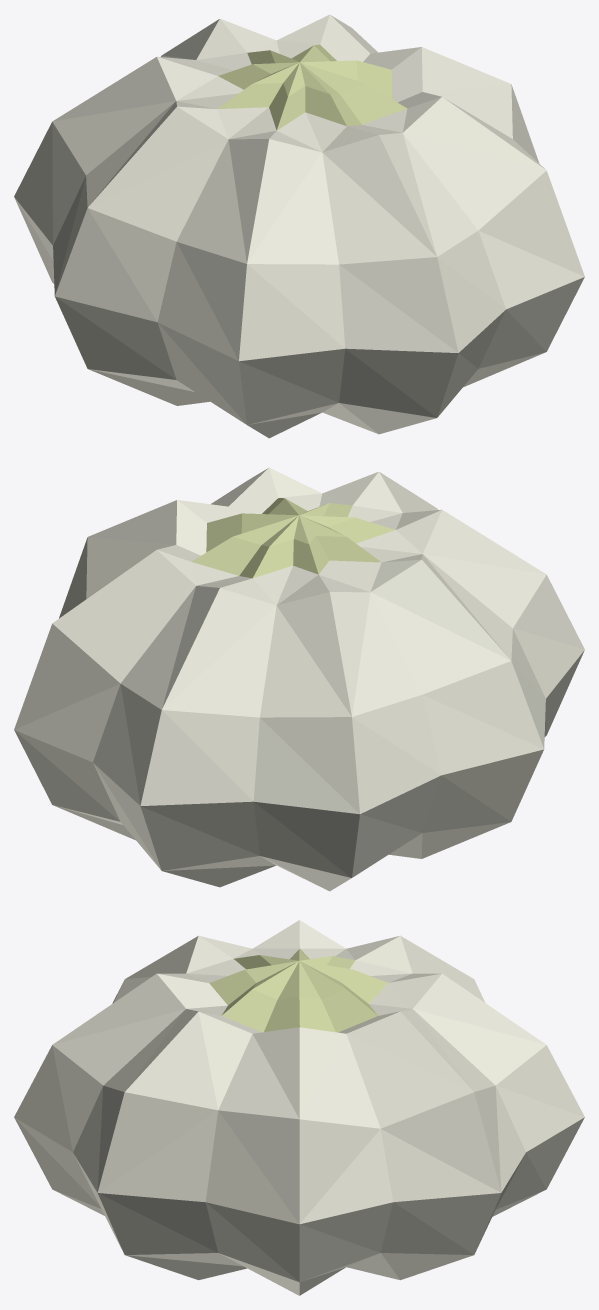
File: garlic.fbx
The picture shows the model from 3 angles, top to bottom: view 1: azimuth 30°, elevation 25°; view 2: azimuth 150°, elevation 25°; view 3: azimuth 270°, elevation 25°; orthographic projection. The views are drawn at different scales.
Visible parts, largest first — view 1: pSphere4; view 2: pSphere4; view 3: pSphere4.
Part boxes in pixels (left/top/right/bottom): pSphere4: left=14, top=14, right=584, bottom=438; pSphere4: left=14, top=467, right=584, bottom=891; pSphere4: left=14, top=920, right=584, bottom=1295.
Bounding box in the file's own units: 0.015 × 0.00919 × 0.0169.
